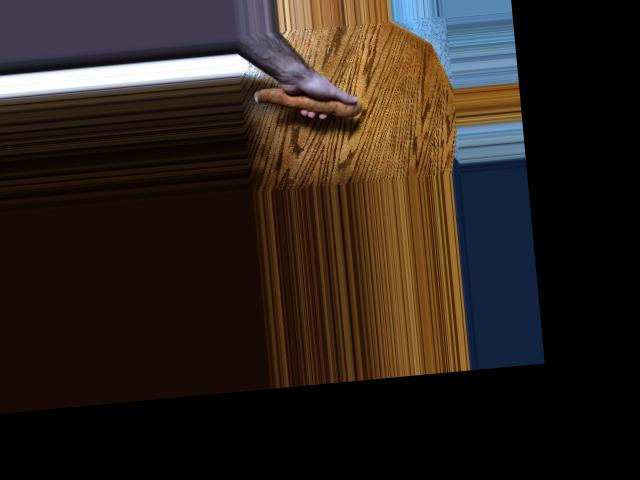sweet_potato: (252, 78, 362, 126)
